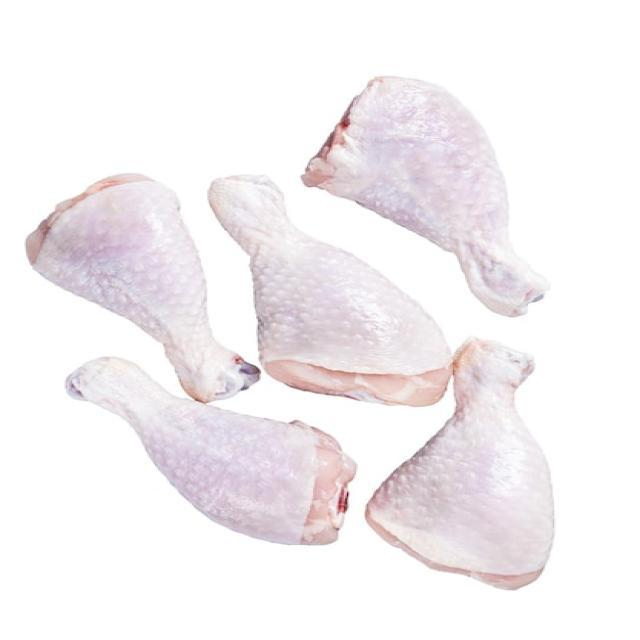leg: (292, 70, 552, 318), (204, 172, 452, 412), (62, 354, 343, 546), (20, 170, 255, 398), (362, 336, 555, 592)
